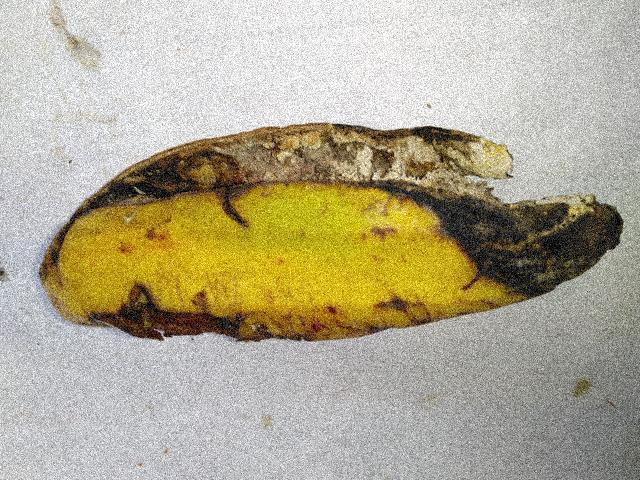rotten: (33, 115, 604, 361)
